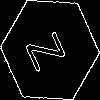Z: (25, 25, 74, 73)
